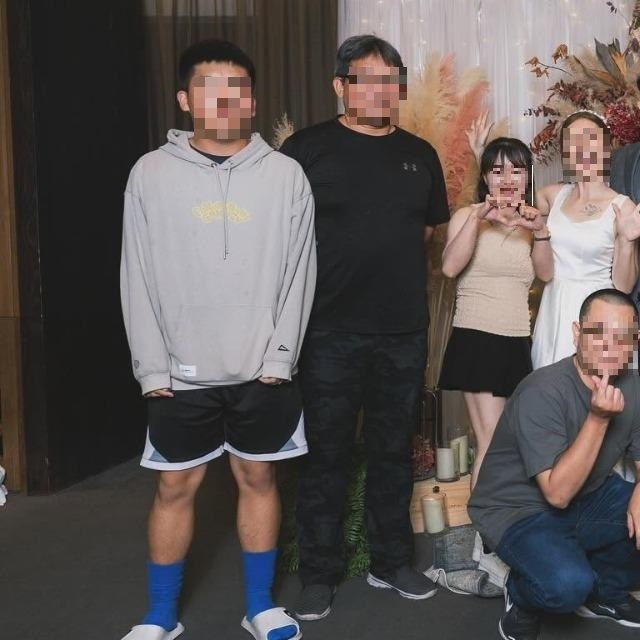NoHelmet: (177, 38, 260, 139), (332, 31, 410, 128), (571, 290, 640, 382)
NoVest: (121, 137, 314, 388), (286, 126, 437, 342)
